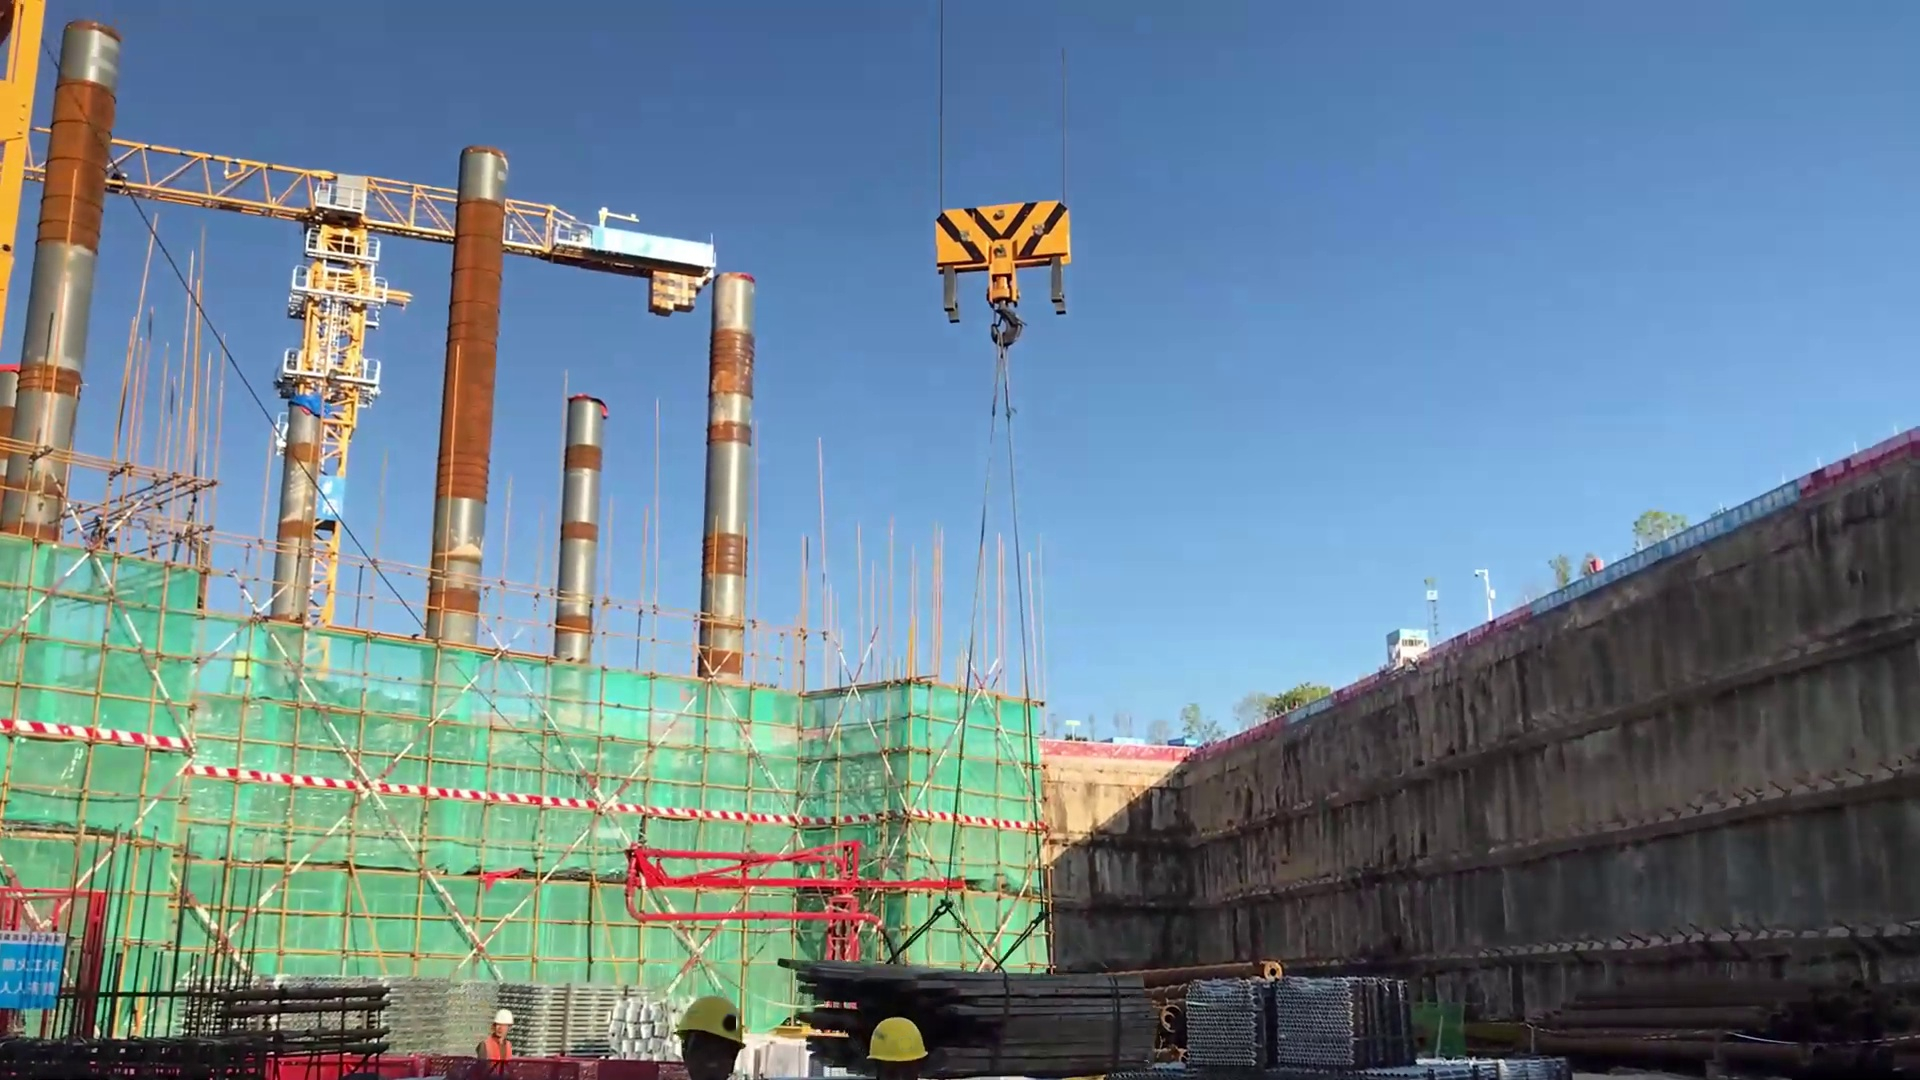helmet: (847, 1004, 936, 1065), (666, 996, 761, 1044)
hook: (934, 199, 1075, 353)
slogan: (1509, 481, 1820, 626)
wood: (765, 928, 1201, 1080)
